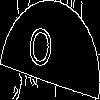O: (25, 24, 55, 79)
